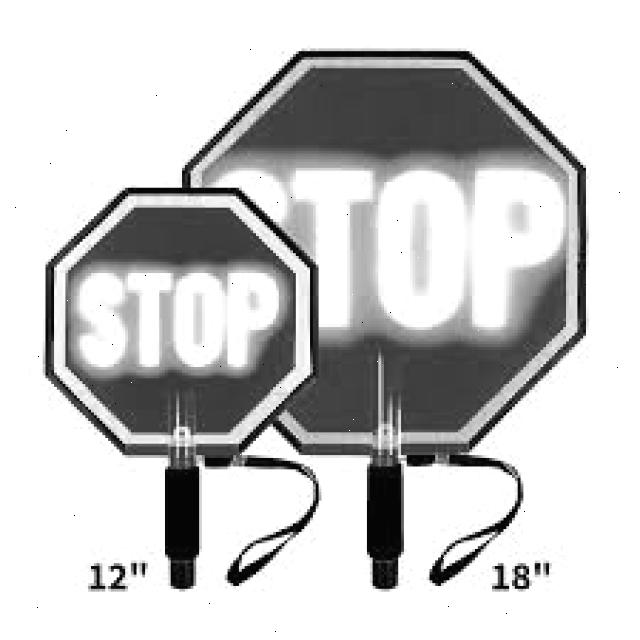stop sign: (42, 181, 323, 460)
